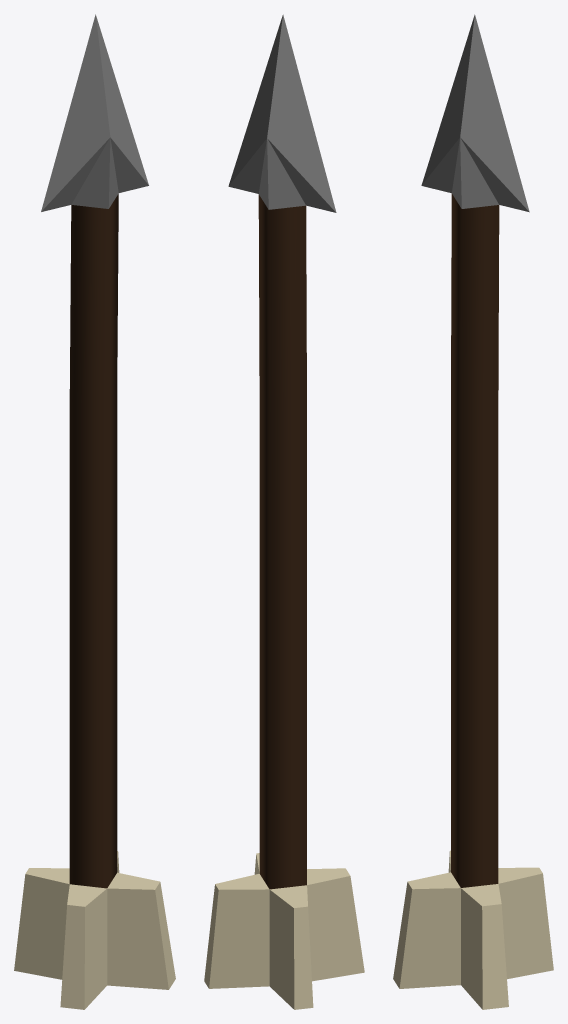
Rendered from arrow.FBX.
3 renders of one model, left to right at view 1: azimuth 30°, elevation 25°; view 2: azimuth 150°, elevation 25°; view 3: azimuth 330°, elevation 25°, orthographic.
Parts seen in each view (by area): view 1: Cylinder001; view 2: Cylinder001; view 3: Cylinder001.
Part boxes in pixels (bbox=[...]): Cylinder001: bbox=[14, 14, 175, 1009]; Cylinder001: bbox=[204, 14, 364, 1009]; Cylinder001: bbox=[393, 14, 553, 1009].
Size of the model in its own units: 2.04 by 16.18 by 1.99.
